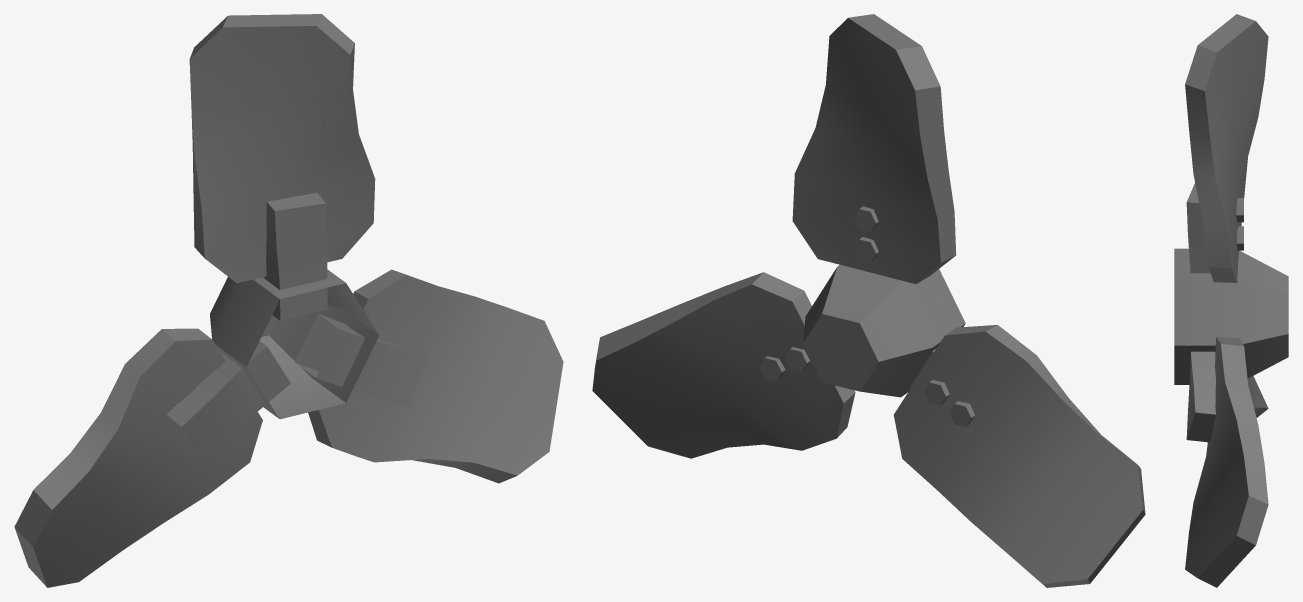
Rendered from SM_Prop_Fan_02_Propeller.fbx.
3 views of the same model, side by side, from view 1: azimuth 30°, elevation 25°; view 2: azimuth 150°, elevation 25°; view 3: azimuth 270°, elevation 25° (orthographic). The views are drawn at different scales.
Parts seen in each view (by area): view 1: SM_Prop_Fan_02_Propeller; view 2: SM_Prop_Fan_02_Propeller; view 3: SM_Prop_Fan_02_Propeller.
Part boxes in pixels (x1=…): SM_Prop_Fan_02_Propeller: x1=14, y1=14, x2=563, y2=587; SM_Prop_Fan_02_Propeller: x1=592, y1=14, x2=1145, y2=587; SM_Prop_Fan_02_Propeller: x1=1174, y1=14, x2=1288, y2=587.
Bounding box in the file's own units: 61.31 × 55.04 × 12.11.
